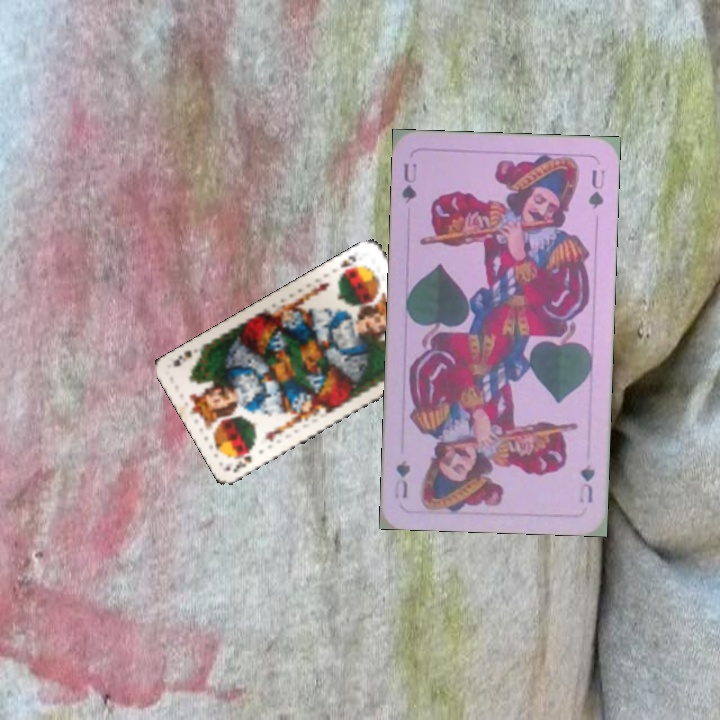GU: (575, 460, 598, 505), (397, 159, 419, 206)
SK: (335, 251, 360, 280), (228, 451, 255, 475)
